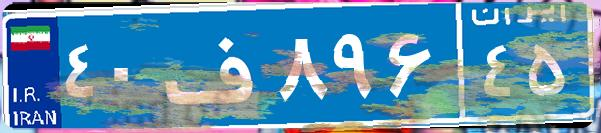0: (110, 28, 158, 105)
4: (57, 26, 110, 107), (475, 38, 525, 113)
5: (525, 38, 570, 115)
6: (385, 28, 445, 110)
8: (273, 28, 330, 110)
9: (330, 28, 385, 110)
ف: (158, 15, 273, 115)
